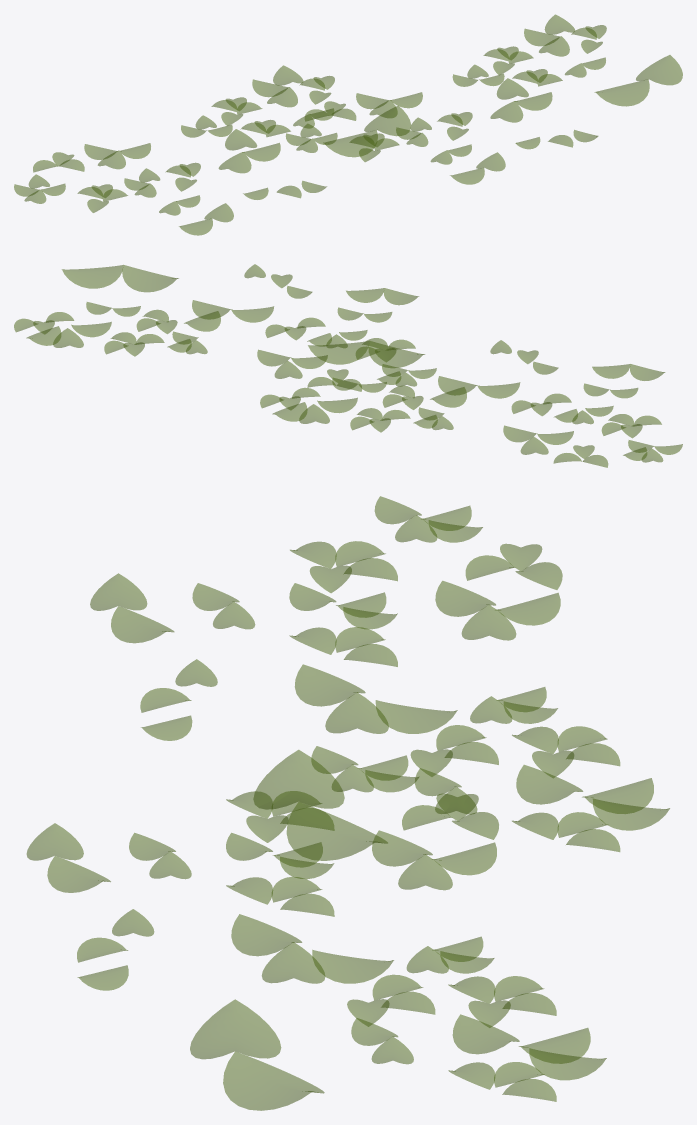
The model's file is z_kalat.obj.
3 views of the same model, one above another, from view 1: azimuth 30°, elevation 25°; view 2: azimuth 150°, elevation 25°; view 3: azimuth 270°, elevation 25° (orthographic). The views are drawn at different scales.
Visible parts, largest first — view 1: Mesh49 Group65 Group64 Group_1_1 Model, Mesh99 Group131 Group130 Group_1_1 Model, Mesh50 Group66 Group64 Group_1_1 Model, Mesh100 Group132 Group130 Group_1_1 Model, Mesh58 Group77 Group76 Group_1_1 Model, Mesh8 Group11 Group10 Group_1_1 Model, Mesh10 Group13 Group10 Group_1_1 Model, Mesh60 Group79 Group76 Group_1_1 Model, Mesh59 Group78 Group76 Group_1_1 Model, Mesh9 Group12 Group10 Group_1_1 Model, Mesh41 Group54 Group51 Group_1_1 Model, Mesh91 Group120 Group117 Group_1_1 Model (+8 smaller); view 2: Mesh50 Group66 Group64 Group_1_1 Model, Mesh100 Group132 Group130 Group_1_1 Model, Mesh49 Group65 Group64 Group_1_1 Model, Mesh99 Group131 Group130 Group_1_1 Model, Mesh8 Group11 Group10 Group_1_1 Model, Mesh58 Group77 Group76 Group_1_1 Model, Mesh59 Group78 Group76 Group_1_1 Model, Mesh9 Group12 Group10 Group_1_1 Model, Mesh60 Group79 Group76 Group_1_1 Model, Mesh10 Group13 Group10 Group_1_1 Model, Mesh89 Group118 Group117 Group_1_1 Model, Mesh39 Group52 Group51 Group_1_1 Model (+14 smaller); view 3: Mesh49 Group65 Group64 Group_1_1 Model, Mesh99 Group131 Group130 Group_1_1 Model, Mesh50 Group66 Group64 Group_1_1 Model, Mesh100 Group132 Group130 Group_1_1 Model, Mesh10 Group13 Group10 Group_1_1 Model, Mesh60 Group79 Group76 Group_1_1 Model, Mesh9 Group12 Group10 Group_1_1 Model, Mesh59 Group78 Group76 Group_1_1 Model, Mesh8 Group11 Group10 Group_1_1 Model, Mesh58 Group77 Group76 Group_1_1 Model, Mesh40 Group53 Group51 Group_1_1 Model, Mesh90 Group119 Group117 Group_1_1 Model (+14 smaller).
Part boxes in pixels (x1=…): Mesh49 Group65 Group64 Group_1_1 Model: x1=594, y1=79, x2=649, y2=106; Mesh99 Group131 Group130 Group_1_1 Model: x1=323, y1=130, x2=377, y2=157; Mesh50 Group66 Group64 Group_1_1 Model: x1=636, y1=55, x2=682, y2=85; Mesh100 Group132 Group130 Group_1_1 Model: x1=364, y1=106, x2=411, y2=136; Mesh58 Group77 Group76 Group_1_1 Model: x1=225, y1=129, x2=256, y2=150; Mesh8 Group11 Group10 Group_1_1 Model: x1=497, y1=78, x2=528, y2=99; Mesh10 Group13 Group10 Group_1_1 Model: x1=490, y1=101, x2=523, y2=122; Mesh60 Group79 Group76 Group_1_1 Model: x1=218, y1=152, x2=251, y2=173; Mesh59 Group78 Group76 Group_1_1 Model: x1=243, y1=143, x2=280, y2=161; Mesh9 Group12 Group10 Group_1_1 Model: x1=515, y1=92, x2=552, y2=110; Mesh41 Group54 Group51 Group_1_1 Model: x1=524, y1=28, x2=559, y2=46; Mesh91 Group120 Group117 Group_1_1 Model: x1=252, y1=79, x2=288, y2=97; Mesh50 Group66 Group64 Group_1_1 Model: x1=62, y1=265, x2=123, y2=288; Mesh100 Group132 Group130 Group_1_1 Model: x1=308, y1=341, x2=369, y2=364; Mesh49 Group65 Group64 Group_1_1 Model: x1=122, y1=265, x2=178, y2=292; Mesh99 Group131 Group130 Group_1_1 Model: x1=368, y1=341, x2=424, y2=367; Mesh8 Group11 Group10 Group_1_1 Model: x1=184, y1=311, x2=220, y2=331; Mesh58 Group77 Group76 Group_1_1 Model: x1=430, y1=387, x2=466, y2=407; Mesh59 Group78 Group76 Group_1_1 Model: x1=438, y1=376, x2=476, y2=395; Mesh9 Group12 Group10 Group_1_1 Model: x1=192, y1=300, x2=230, y2=319; Mesh60 Group79 Group76 Group_1_1 Model: x1=477, y1=382, x2=520, y2=398; Mesh10 Group13 Group10 Group_1_1 Model: x1=231, y1=306, x2=273, y2=322; Mesh89 Group118 Group117 Group_1_1 Model: x1=272, y1=402, x2=307, y2=421; Mesh39 Group52 Group51 Group_1_1 Model: x1=26, y1=326, x2=61, y2=345; Mesh49 Group65 Group64 Group_1_1 Model: x1=190, y1=999, x2=281, y2=1059; Mesh99 Group131 Group130 Group_1_1 Model: x1=253, y1=750, x2=344, y2=809; Mesh50 Group66 Group64 Group_1_1 Model: x1=223, y1=1051, x2=324, y2=1110; Mesh100 Group132 Group130 Group_1_1 Model: x1=286, y1=802, x2=387, y2=860; Mesh10 Group13 Group10 Group_1_1 Model: x1=231, y1=914, x2=301, y2=956; Mesh60 Group79 Group76 Group_1_1 Model: x1=295, y1=664, x2=365, y2=706; Mesh9 Group12 Group10 Group_1_1 Model: x1=262, y1=942, x2=325, y2=983; Mesh59 Group78 Group76 Group_1_1 Model: x1=325, y1=692, x2=388, y2=733; Mesh8 Group11 Group10 Group_1_1 Model: x1=312, y1=950, x2=393, y2=983; Mesh58 Group77 Group76 Group_1_1 Model: x1=375, y1=700, x2=457, y2=733; Mesh40 Group53 Group51 Group_1_1 Model: x1=452, y1=1014, x2=519, y2=1054; Mesh90 Group119 Group117 Group_1_1 Model: x1=516, y1=765, x2=582, y2=804.
Size of the model in its own units: 541 by 11.06 by 241.
